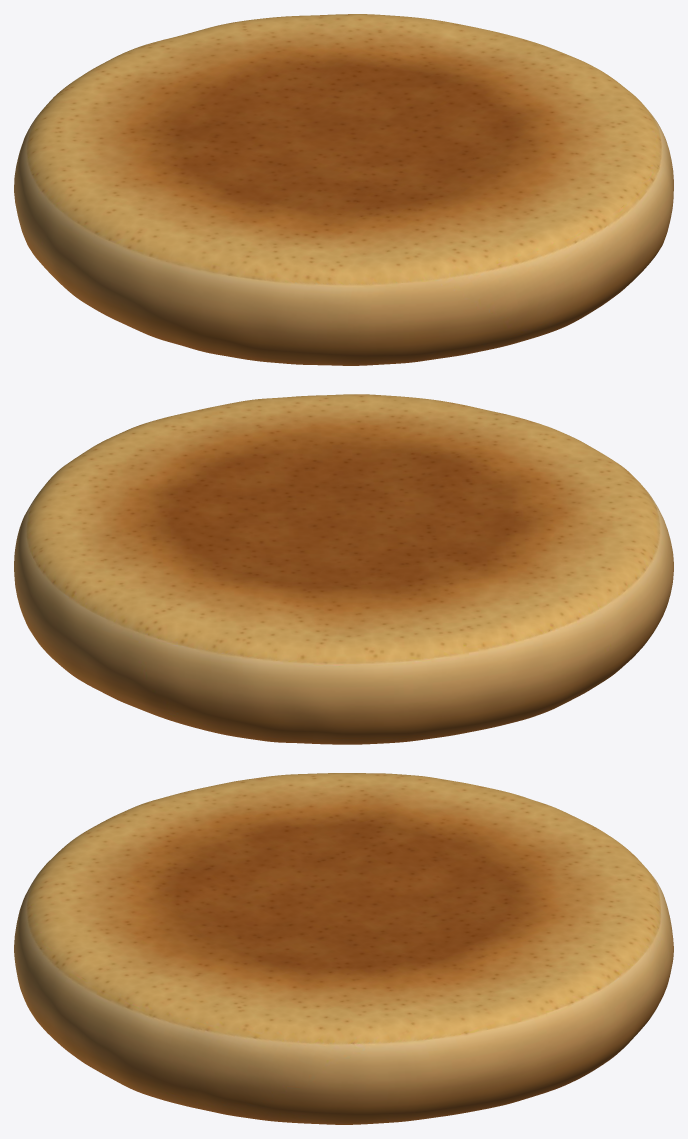
File: bun_bottom.glb
The picture shows the model from 3 angles, top to bottom: view 1: azimuth 30°, elevation 25°; view 2: azimuth 150°, elevation 25°; view 3: azimuth 270°, elevation 25°; orthographic projection.
Visible parts, largest first — view 1: bun_bottom_web; view 2: bun_bottom_web; view 3: bun_bottom_web.
Boxes of the visible parts, x1,y1,x2,y2 form: bun_bottom_web: (14, 14, 673, 365); bun_bottom_web: (14, 394, 673, 744); bun_bottom_web: (14, 773, 673, 1124).
Bounding box in the file's own units: 0.1119 × 0.0213 × 0.1117.
Materials: 1 (1 with a texture image).
